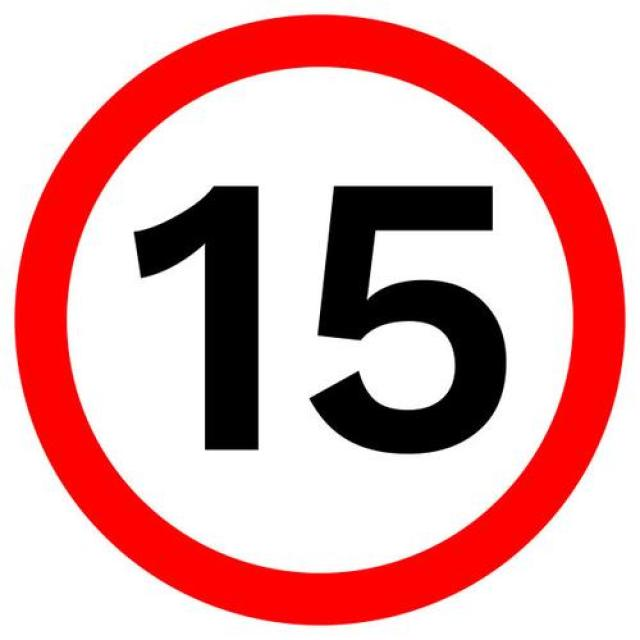speed limit 20: (14, 12, 629, 626)
